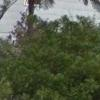Tree: (17, 16, 100, 100)
